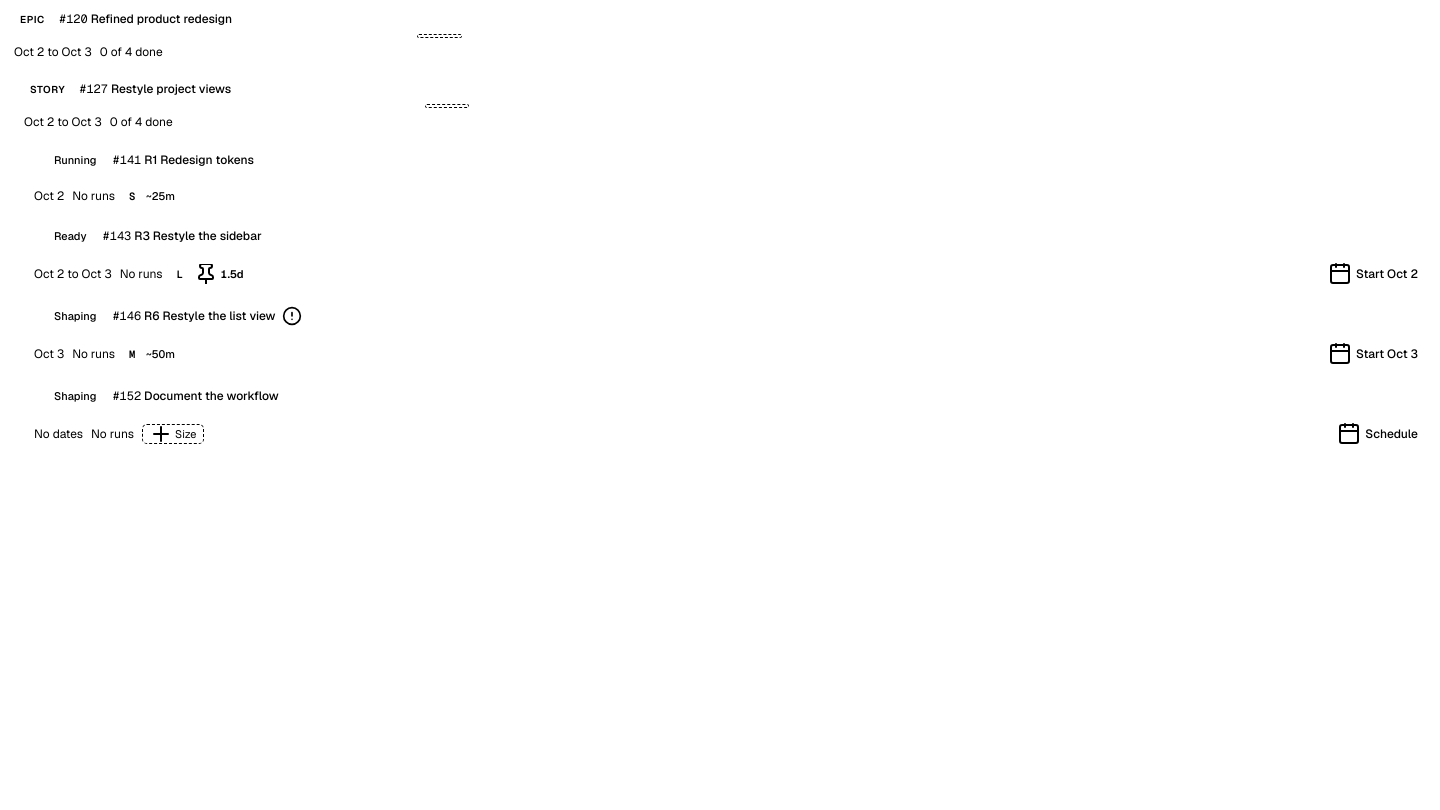
Test case: under 640 px a task shows its size and a Start field whose Target follows the duration
Expected: the button named "Size M, forecast 50m. Change the size or estimate of #146" is shown, [123,344,181,364]
Expected: the button named "Size L, manual estimate 1.5d. Change the size or estimate of #143" is shown, [171,264,250,284]
Click the button with aria-label "Start of #146, Oct 3. Change" at (1373, 354), box [1320,342,1426,366]
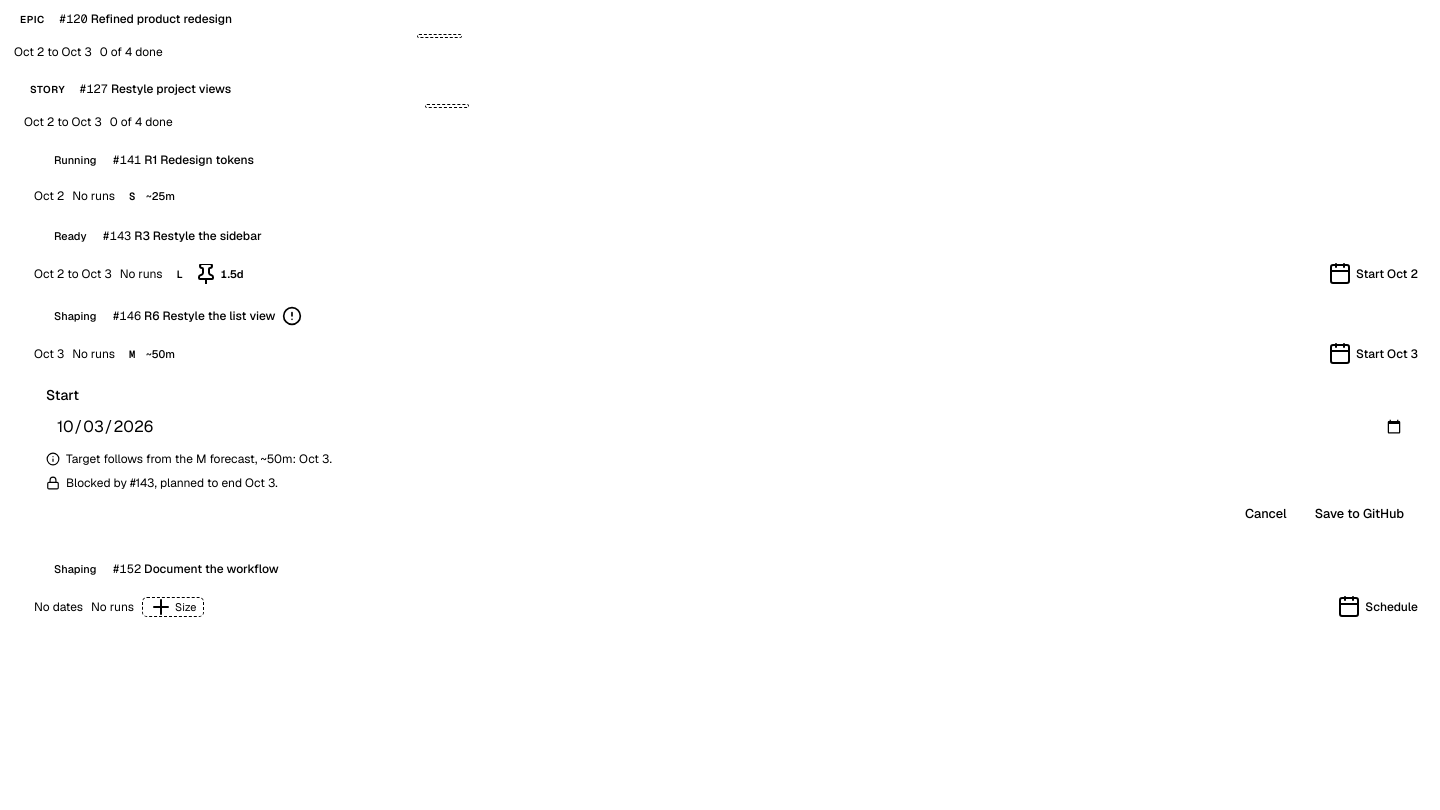
Expected: the date field labelled "Start" holds "2026-10-03"
Expected: the text "Target follows from the M forecast, ~50m: Oct 3." is shown, [46,451,332,467]
Expected: the text "Blocked by #143, planned to end Oct 3." is shown, [46,475,278,491]
Type "2026-10-06" into the date field labelled "Start" at (730, 427), box [46,411,1414,443]
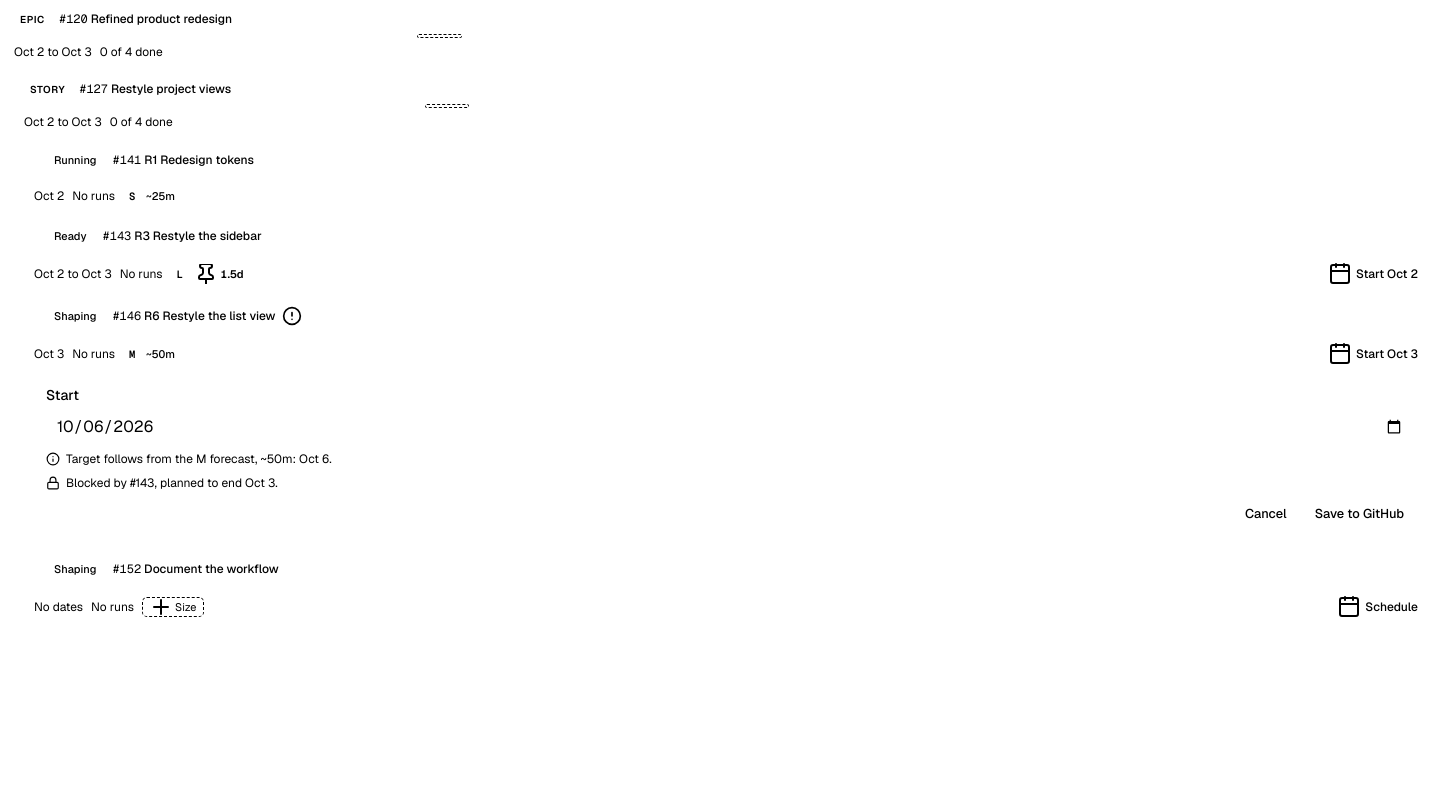
Expected: the text "Target follows from the M forecast, ~50m: Oct 6." is shown, [46,451,332,467]
Click the button "Save to GitHub" at (1359, 513), box [1305,499,1414,527]
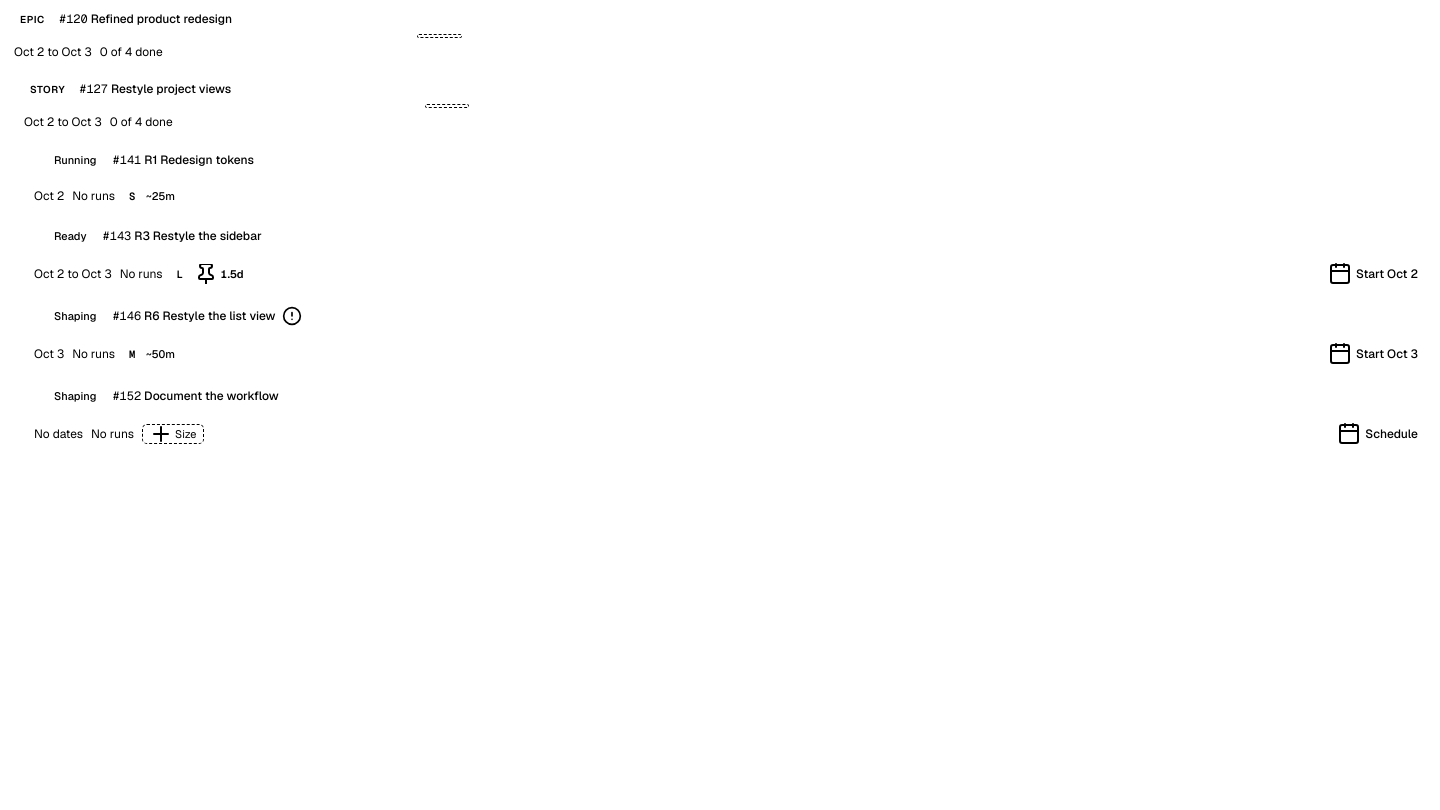
Click the button with aria-label "Start of #143, Oct 2. Change" at (1373, 274), box [1320,262,1426,286]
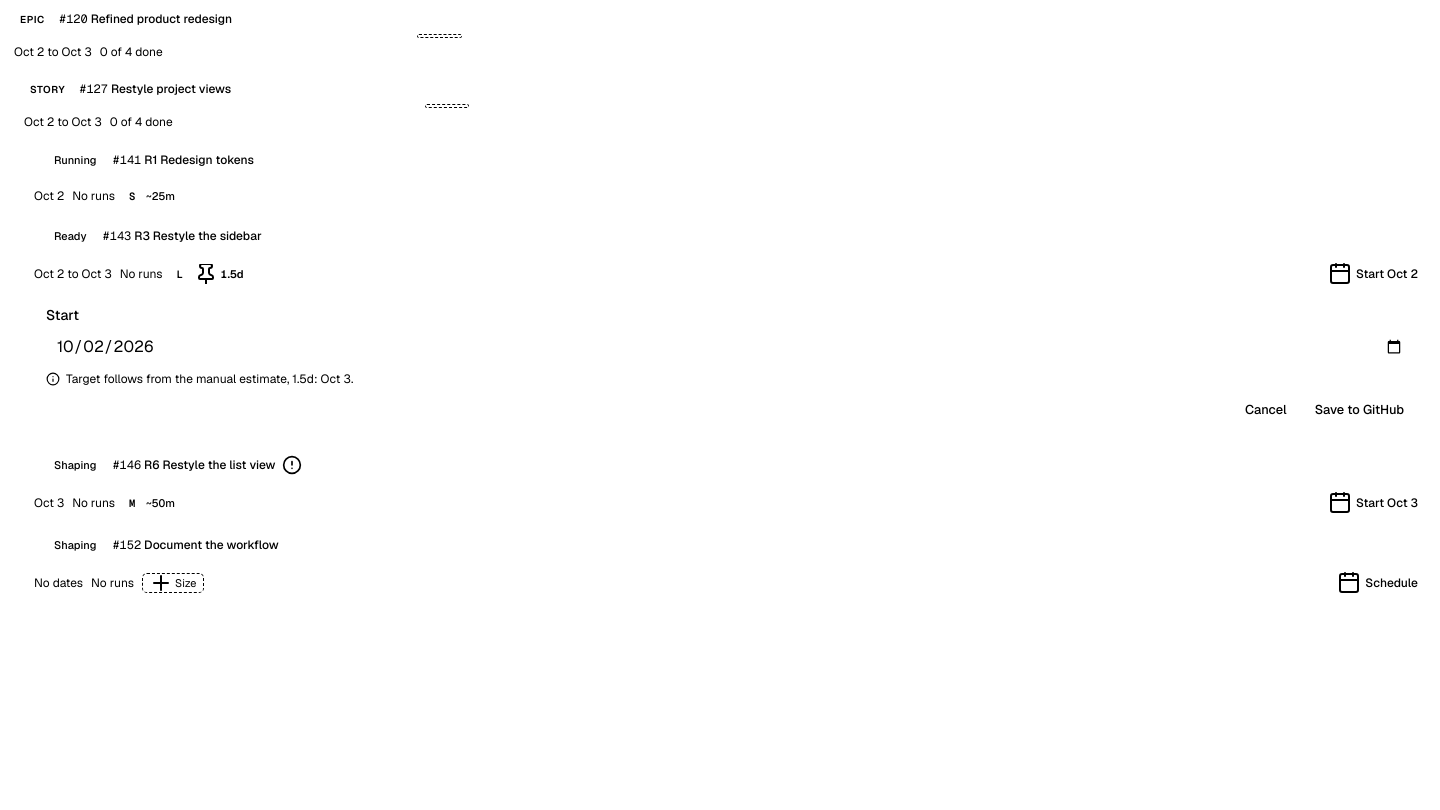
Expected: the button with aria-label "Schedule #152 Document the workflow" is shown, [1329,571,1426,595]
Expected: the text "Target follows from the manual estimate, 1.5d: Oct 3." is shown, [46,371,353,387]
